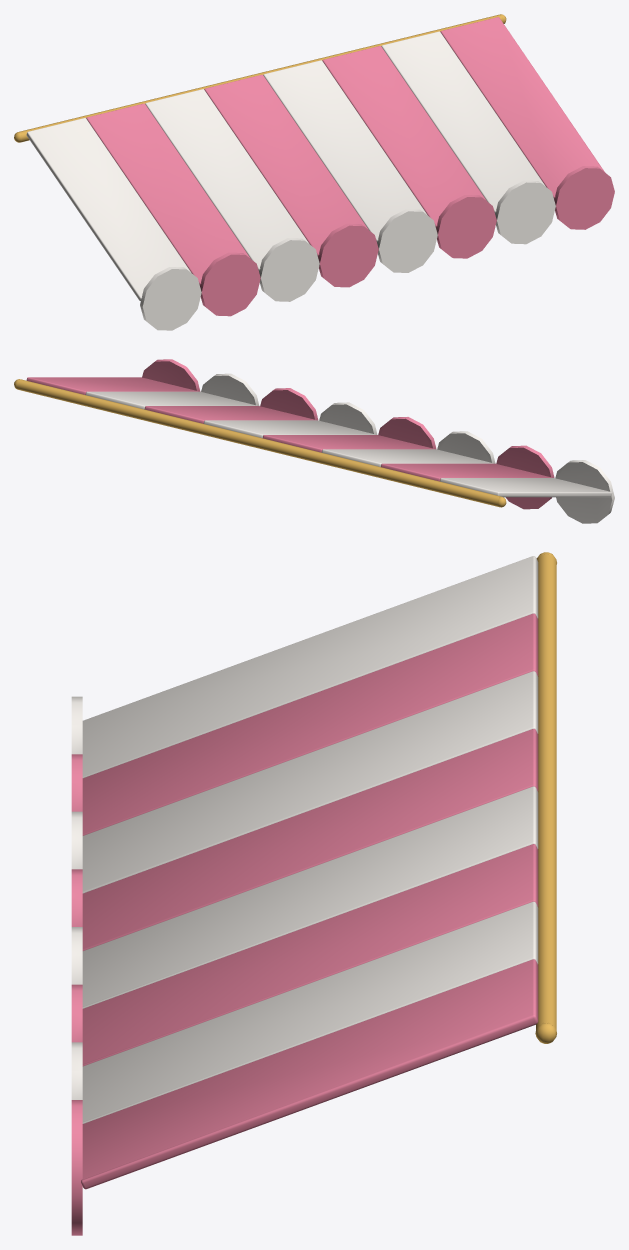
File: awning.glb
The picture shows the model from 3 angles, top to bottom: view 1: azimuth 30°, elevation 25°; view 2: azimuth 150°, elevation 25°; view 3: azimuth 270°, elevation 25°; orthographic projection. The views are drawn at different scales.
Parts seen in each view (by area): view 1: awning; view 2: awning; view 3: awning.
Part boxes in pixels (x1,y1,x2,y2): awning: [14, 14, 614, 330]; awning: [14, 359, 614, 523]; awning: [71, 552, 556, 1235].
Bounding box in the file's own units: 2.08 × 0.4906 × 0.89.
